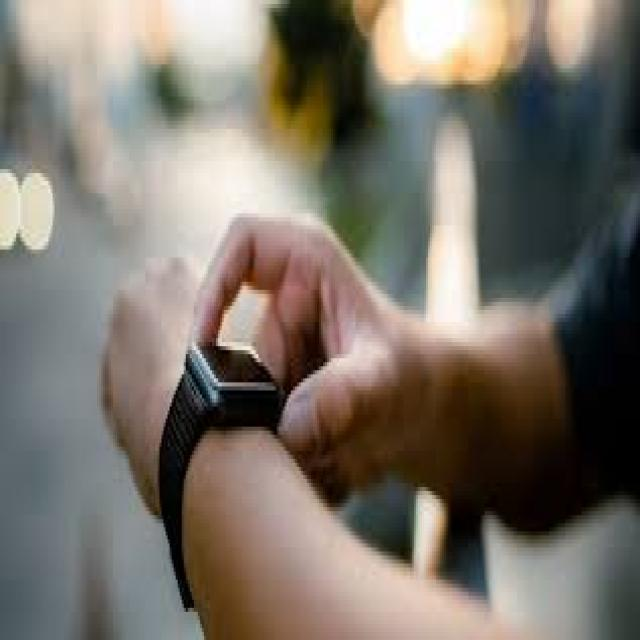objects: (149, 307, 289, 482)
